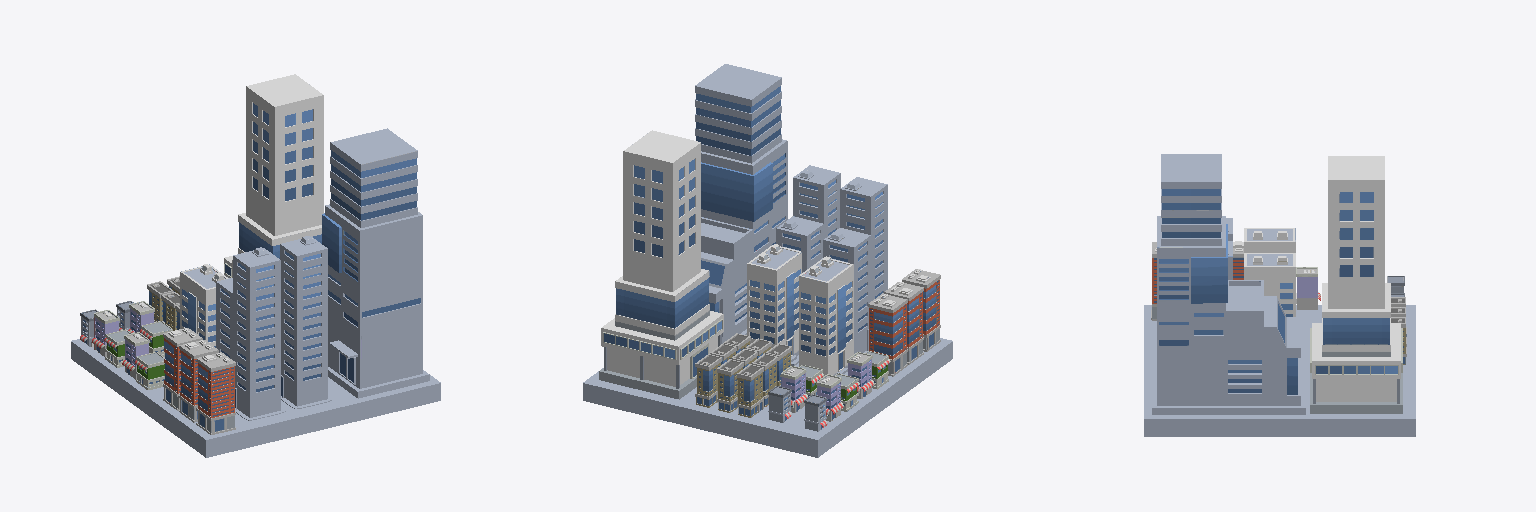
3 views of the same model, side by side, from view 1: azimuth 30°, elevation 25°; view 2: azimuth 150°, elevation 25°; view 3: azimuth 270°, elevation 25° (orthographic).
Visible parts, largest first — view 1: Object131; view 2: Object131; view 3: Object131.
Boxes of the visible parts, <box> form: Object131: <box>71,74,440,457</box>; Object131: <box>583,64,952,457</box>; Object131: <box>1144,154,1415,436</box>.
Bounding box in the file's own units: 2252 × 2268 × 2252.
1 materials, 1 textured.